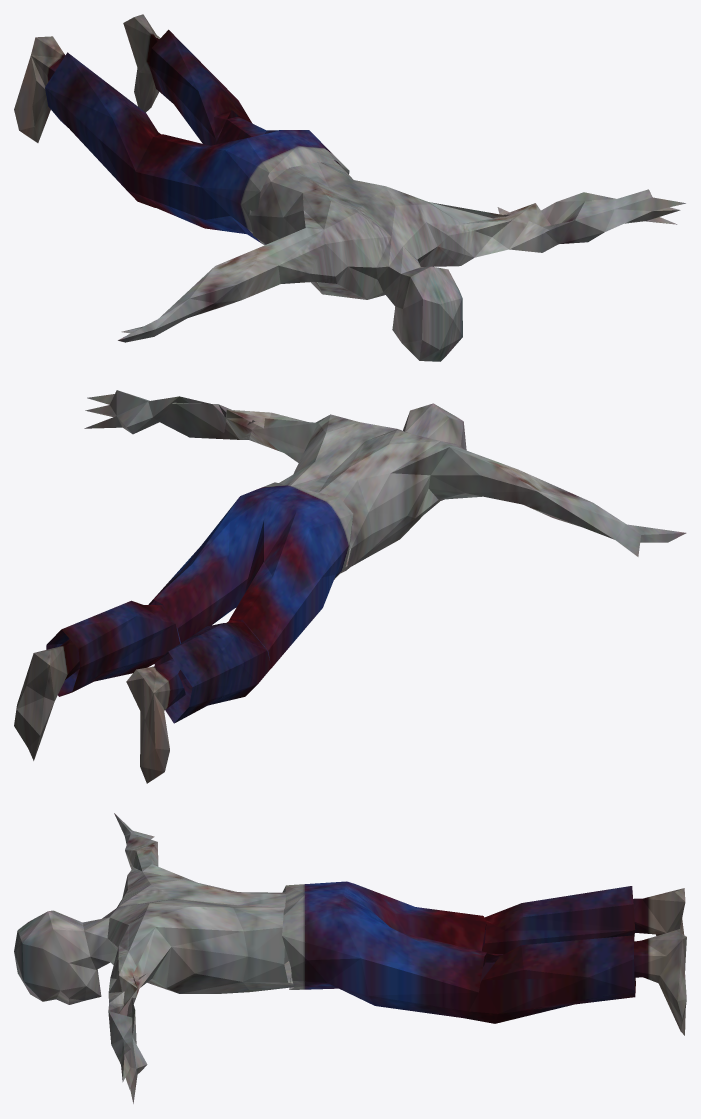
The model's file is zombielow_wtf.obj.
3 views of the same model, one above another, from view 1: azimuth 30°, elevation 25°; view 2: azimuth 150°, elevation 25°; view 3: azimuth 270°, elevation 25° (orthographic). The views are drawn at different scales.
Visible parts, largest first — view 1: group1; view 2: group1; view 3: group1.
Part boxes in pixels (x1,y1,x2,y2): group1: [14, 14, 685, 361]; group1: [14, 390, 686, 783]; group1: [14, 813, 686, 1103].
Size of the model in its own units: 613 by 132 by 660.
